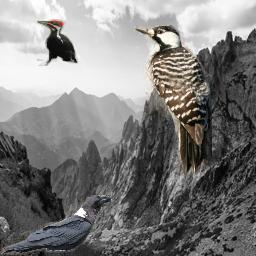Crow: (1, 195, 112, 255)
Woodpecker: (134, 25, 212, 180), (37, 17, 78, 66)
